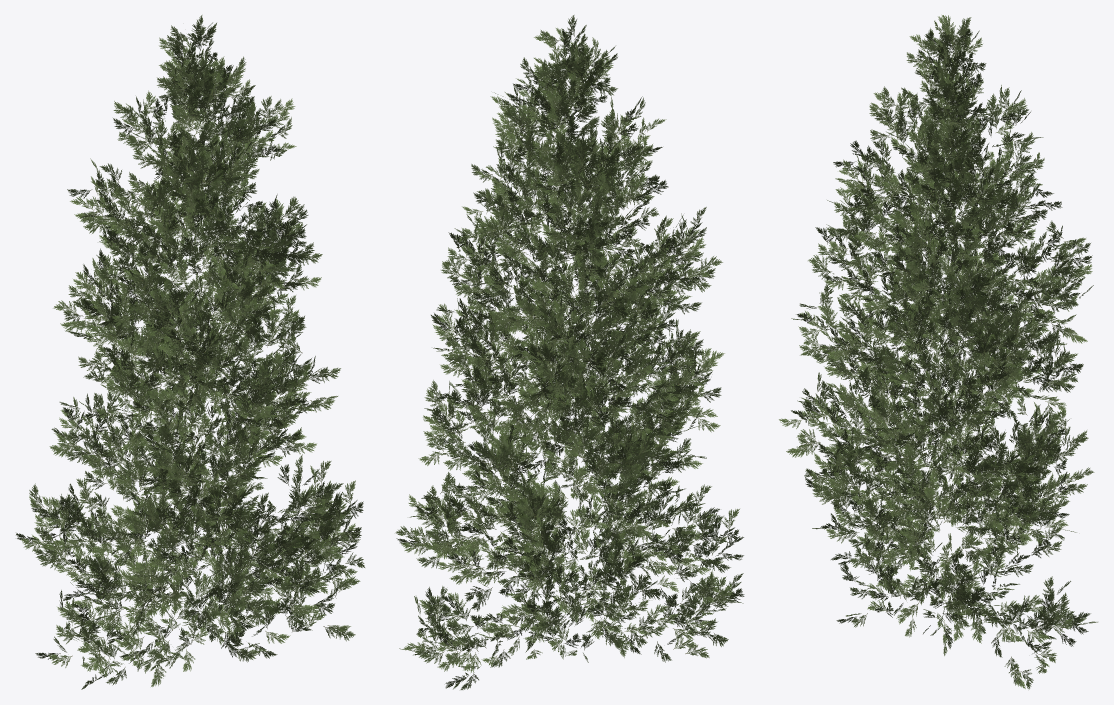
File: MESH_CL04_CalocedrusDecurrens_Y_LOD1.fbx
3 views of the same model, side by side, from view 1: azimuth 30°, elevation 25°; view 2: azimuth 150°, elevation 25°; view 3: azimuth 270°, elevation 25° (orthographic). The views are drawn at different scales.
Parts seen in each view (by area): view 1: MI_LOD1_001; view 2: MI_LOD1_001; view 3: MI_LOD1_001.
Part boxes in pixels (bbox=[...]): MI_LOD1_001: bbox=[16, 15, 364, 689]; MI_LOD1_001: bbox=[395, 15, 744, 689]; MI_LOD1_001: bbox=[779, 15, 1097, 689].
Size of what is drawn, in the model's own units: 731 by 1444 by 658.
